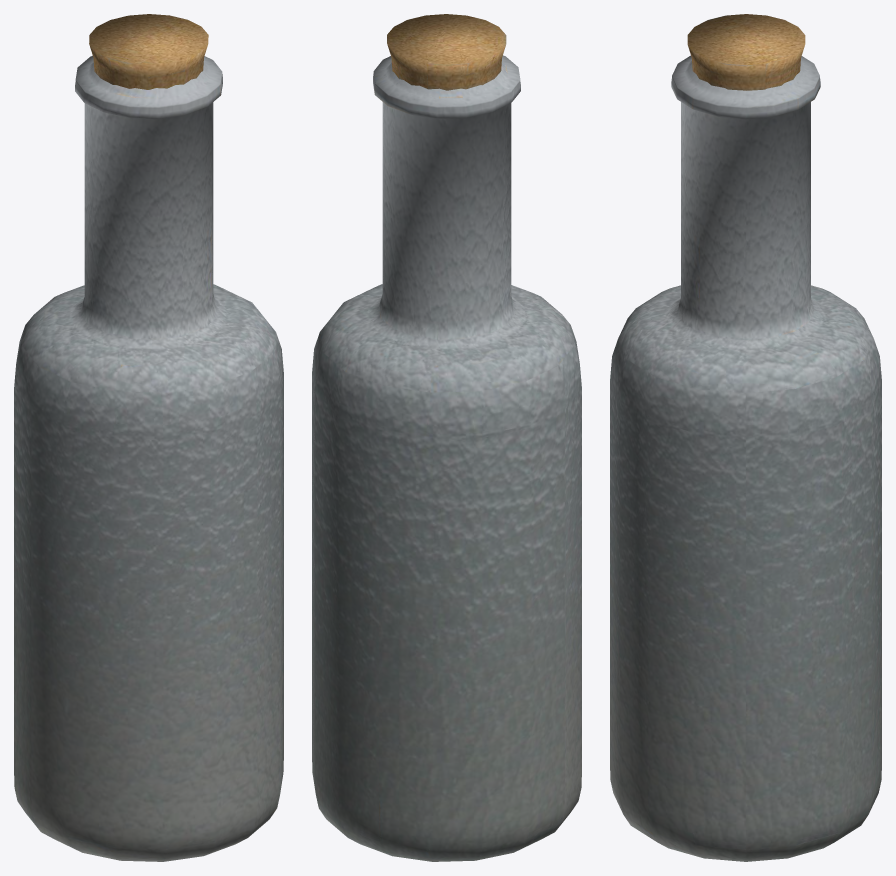
File: vase_556bcb16_visual.obj
3 renders of one model, left to right at view 1: azimuth 30°, elevation 25°; view 2: azimuth 150°, elevation 25°; view 3: azimuth 270°, elevation 25°, orthographic.
Bounding box in the file's own units: 0.0934 × 0.3 × 0.0934.
Materials: 1 (1 with a texture image).
